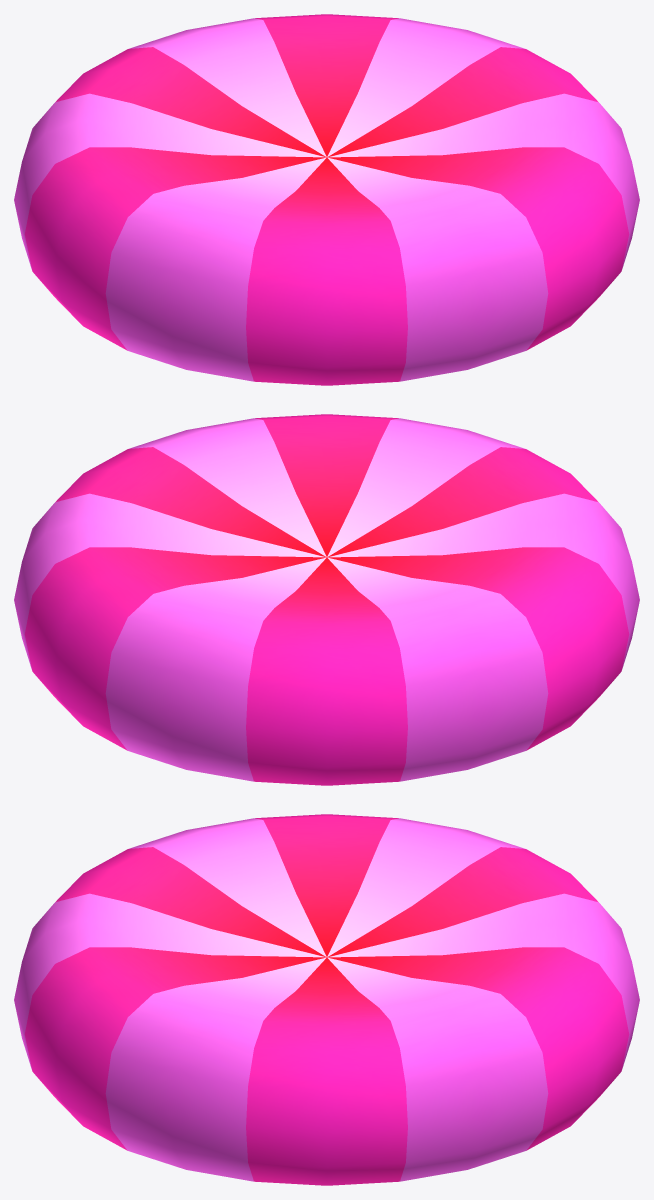
File: Candy_11.glb
3 renders of one model, top to bottom at view 1: azimuth 30°, elevation 25°; view 2: azimuth 150°, elevation 25°; view 3: azimuth 270°, elevation 25°, orthographic.
Parts seen in each view (by area): view 1: Candy_11; view 2: Candy_11; view 3: Candy_11.
Boxes of the visible parts, box(x1,y1,x2,y2) form: Candy_11: box(14, 14, 639, 385); Candy_11: box(14, 414, 639, 785); Candy_11: box(14, 814, 639, 1185).
Size of the model in its own units: 3.37 by 0.9452 by 3.37.
Materials: 1 (1 with a texture image).
